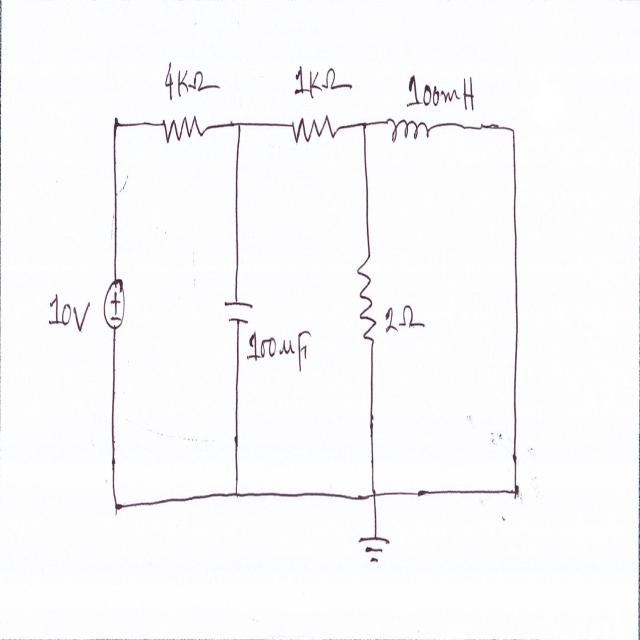capacitor: (222, 289, 255, 328)
ground: (358, 530, 393, 573)
inductor: (384, 113, 432, 154)
resistor: (290, 108, 342, 150), (354, 252, 377, 344), (163, 108, 205, 152)
voltage_source: (101, 273, 128, 334)
